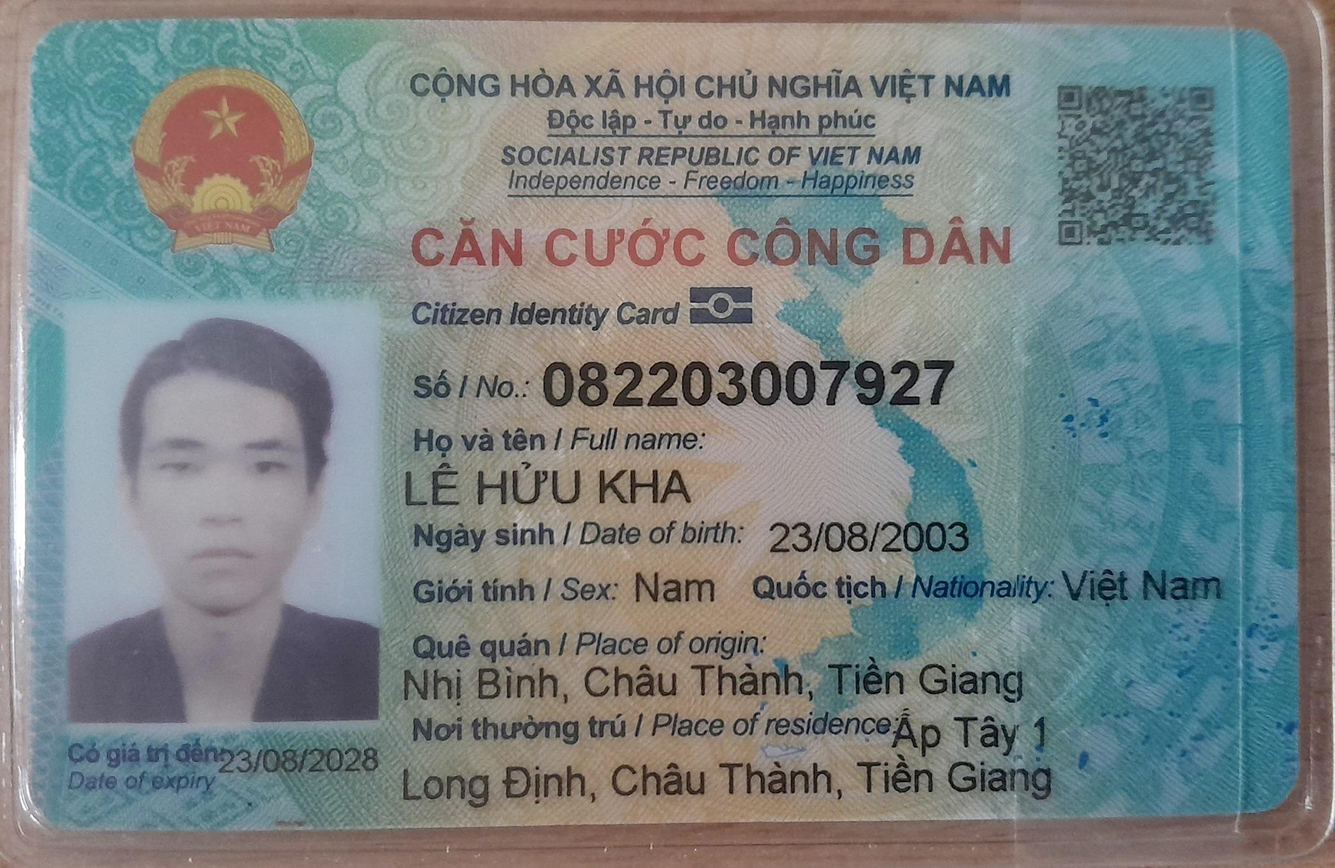ID: (536, 344, 975, 420)
birth: (753, 509, 985, 568)
name: (386, 456, 706, 519)
place: (393, 657, 1040, 709)
residence: (386, 750, 1070, 811), (887, 702, 1056, 760)
